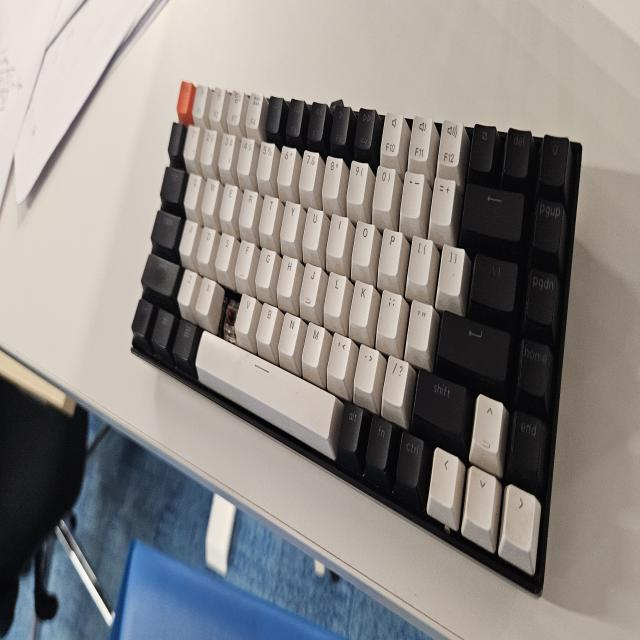C: (218, 302, 238, 333)
